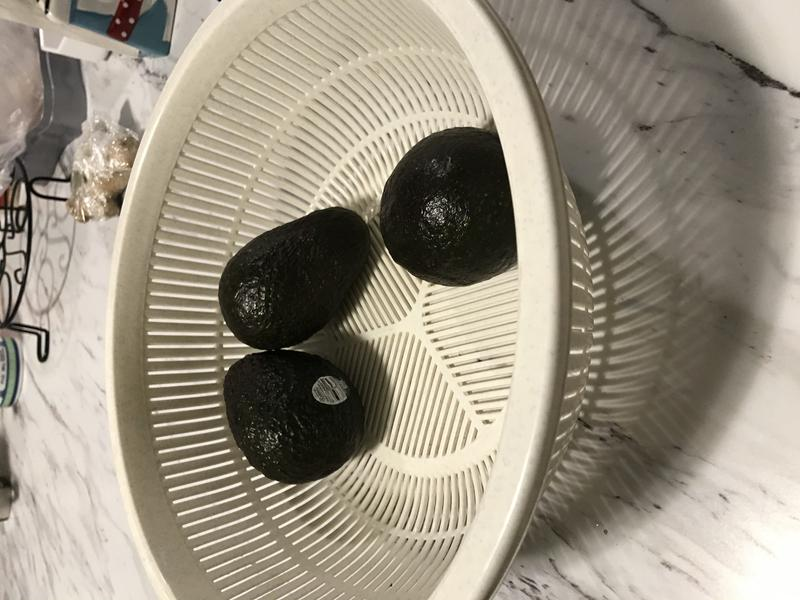avocado: (375, 123, 543, 295), (212, 205, 391, 350), (221, 346, 372, 490)
